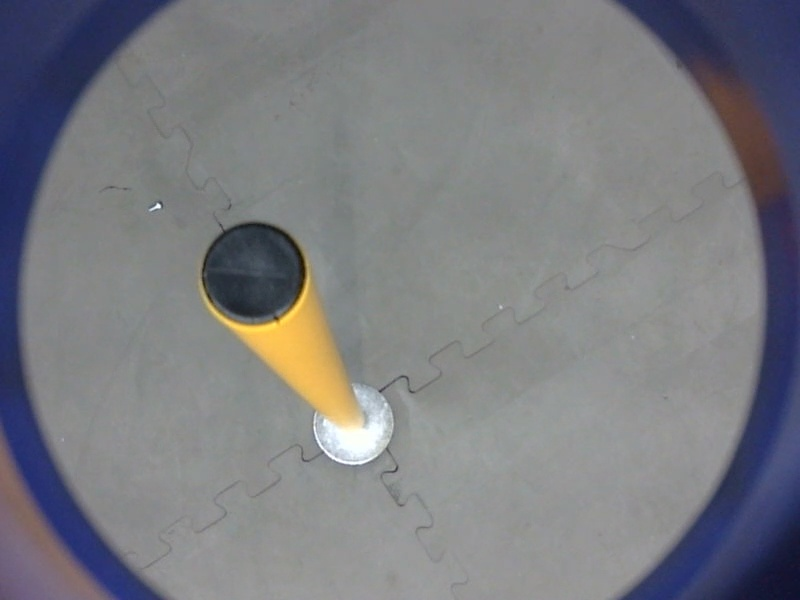tip: (191, 212, 318, 344)
